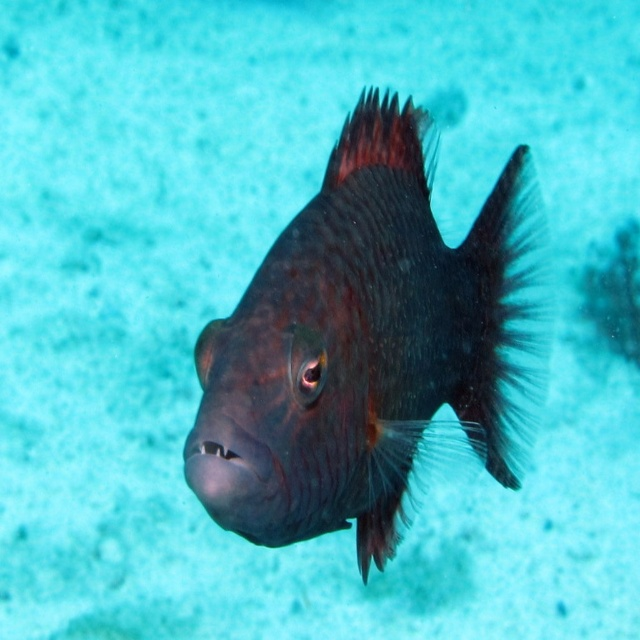Fish: (178, 87, 558, 592)
